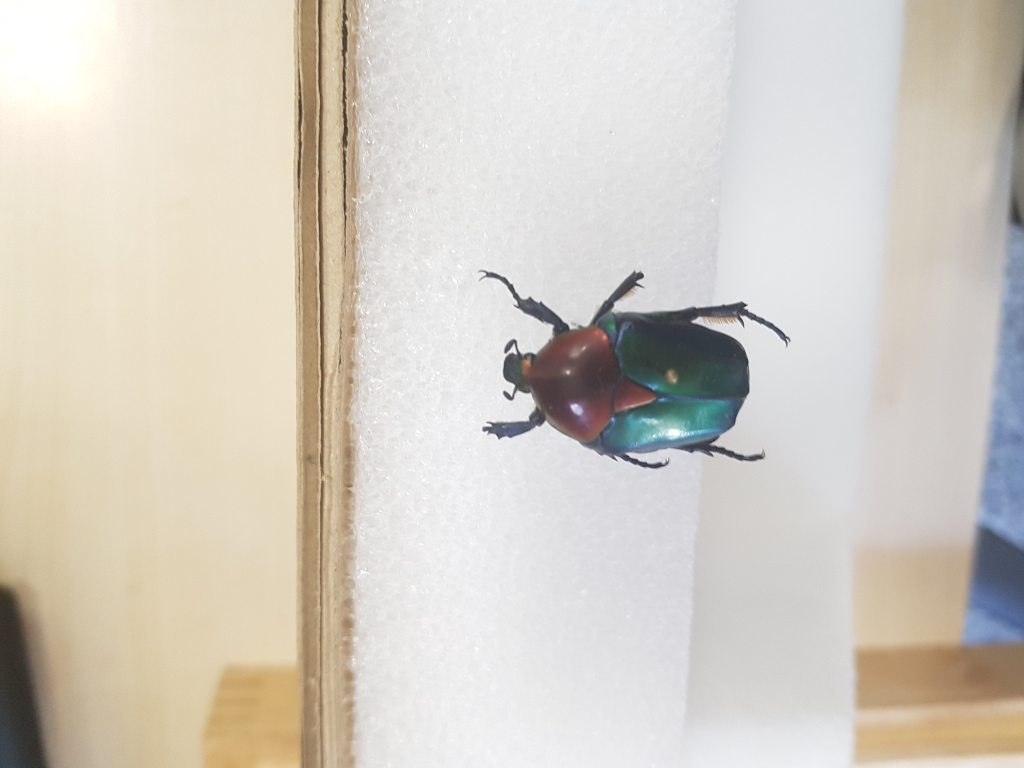Protaetia_speciosa_jousseliniw: (469, 259, 795, 470)
